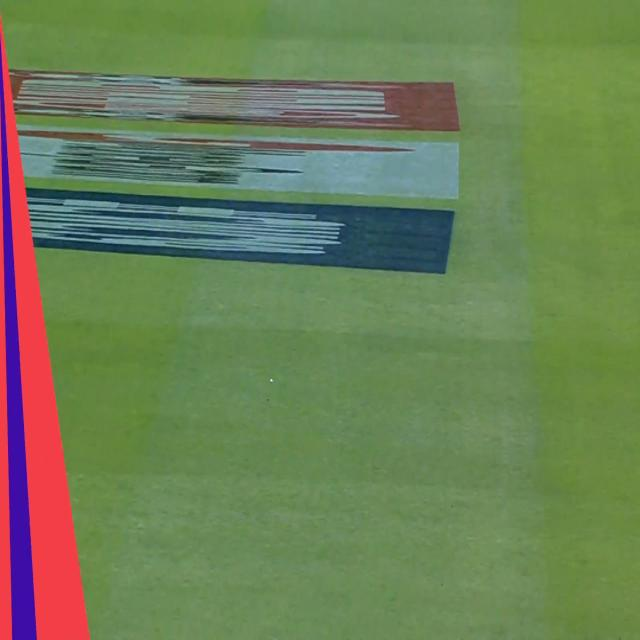ball: (264, 370, 281, 391)
